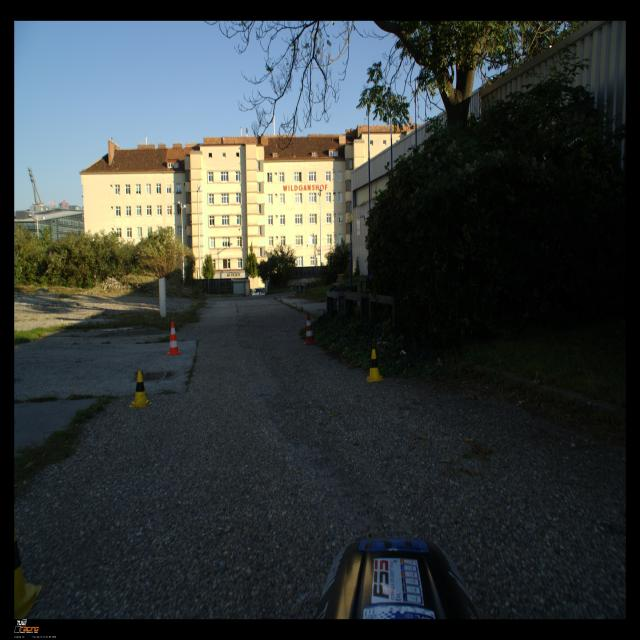large_orange_cone: (166, 322, 182, 356), (304, 313, 318, 345)
yellow_cone: (15, 526, 42, 620), (129, 370, 152, 408), (365, 349, 384, 382)
